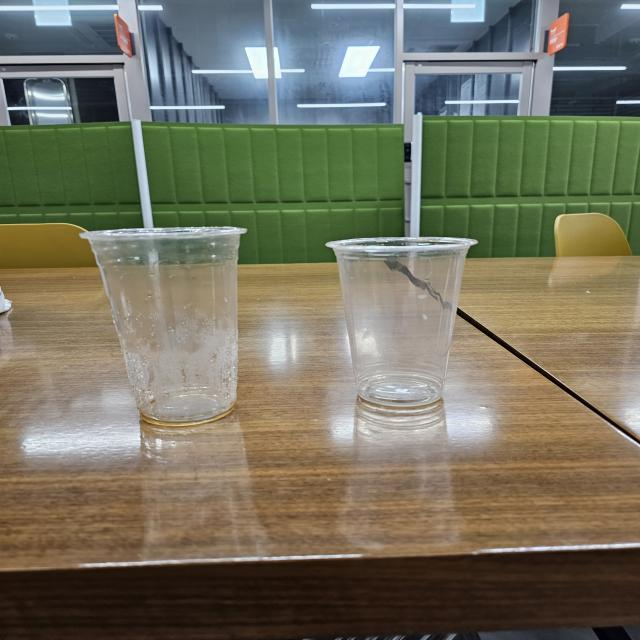cup: (70, 218, 264, 431), (317, 231, 485, 423)
